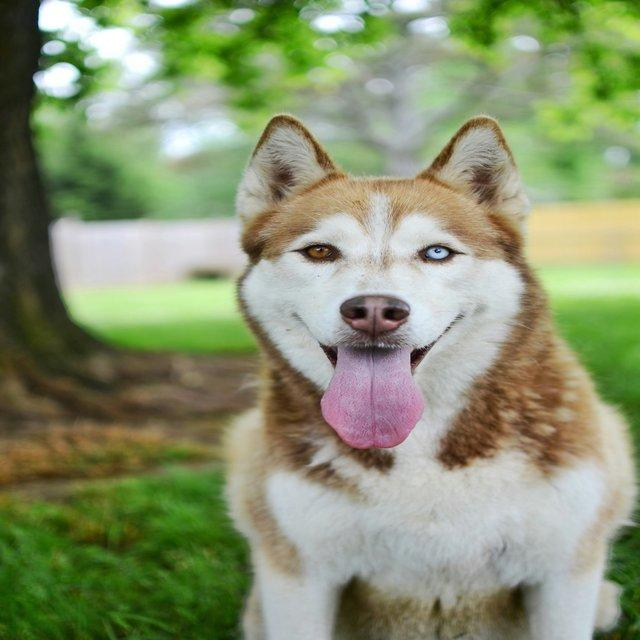husky: (219, 111, 638, 638)
